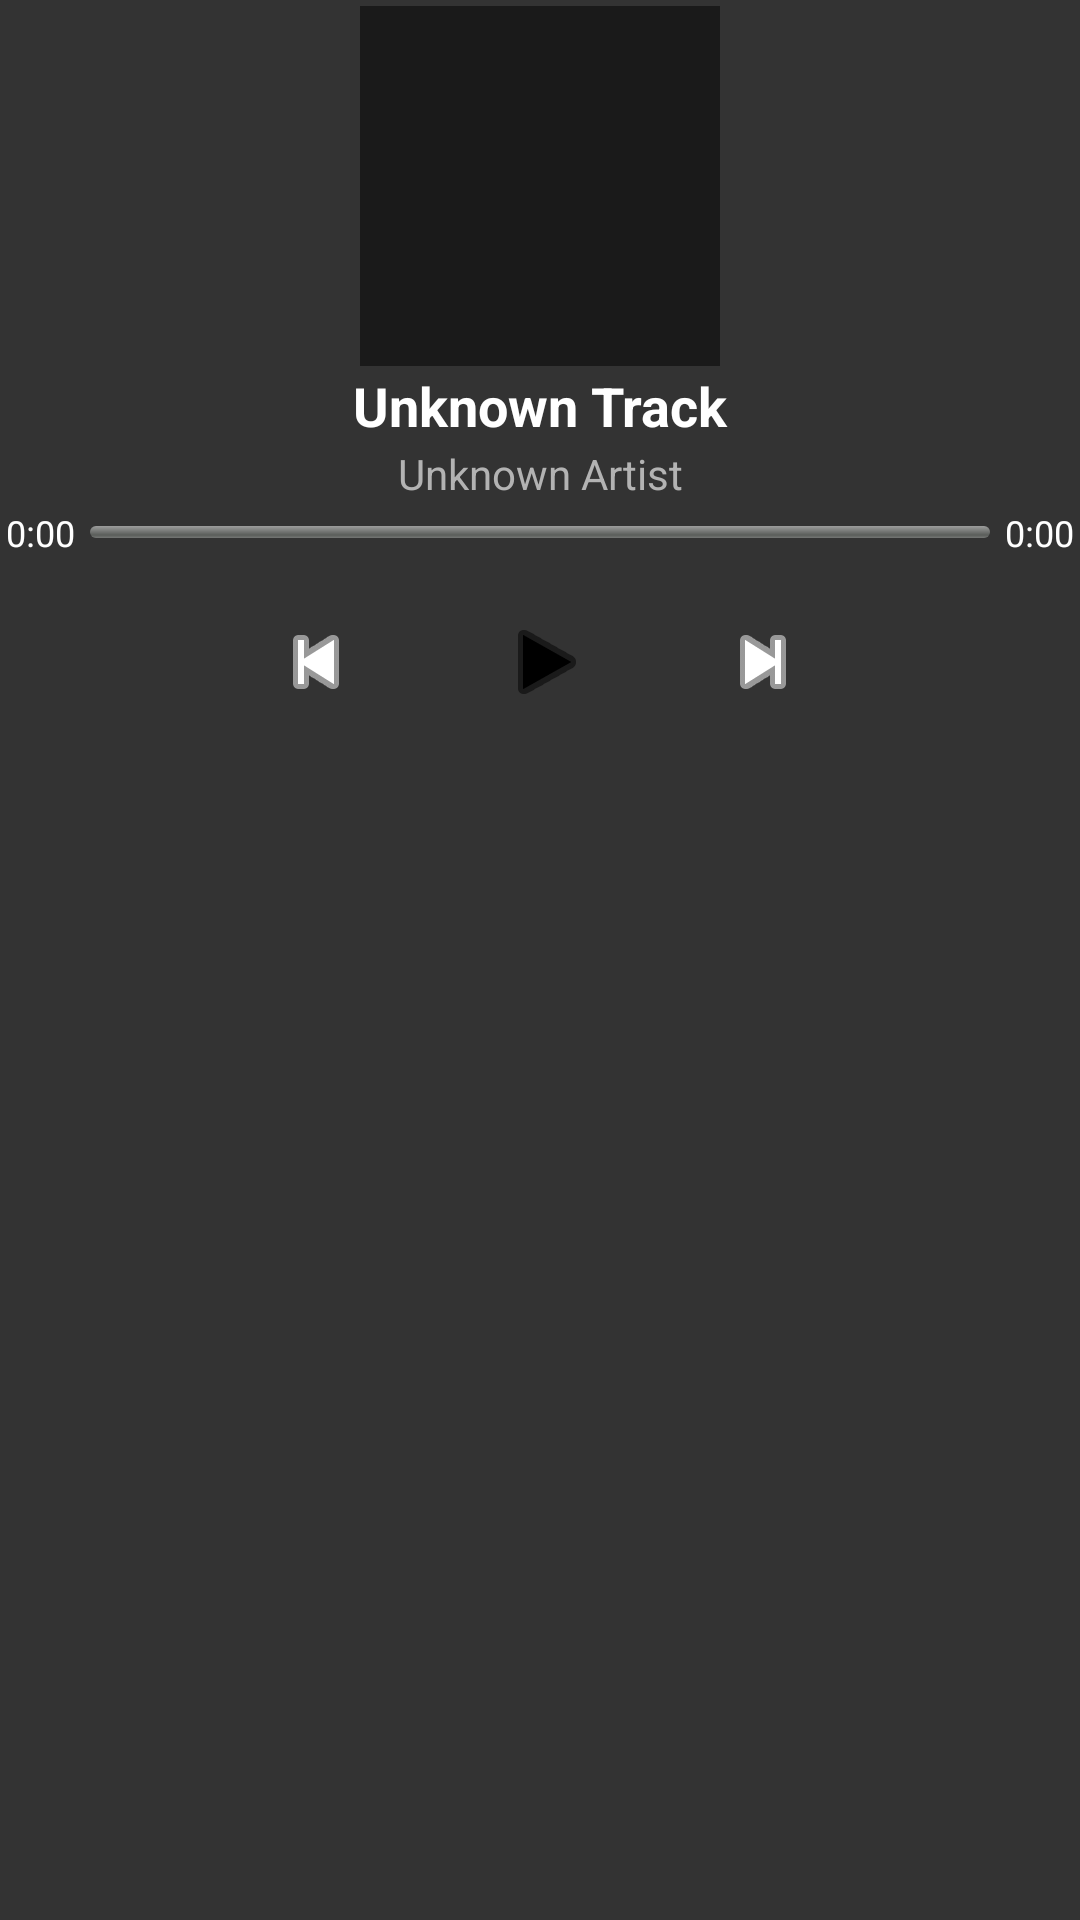

Named icons in this screenshot (1080×1920) and their centers, (x=x, y=y):
Next: (x=763, y=662)
Play/Pause: (x=547, y=662)
Previous: (x=316, y=662)
